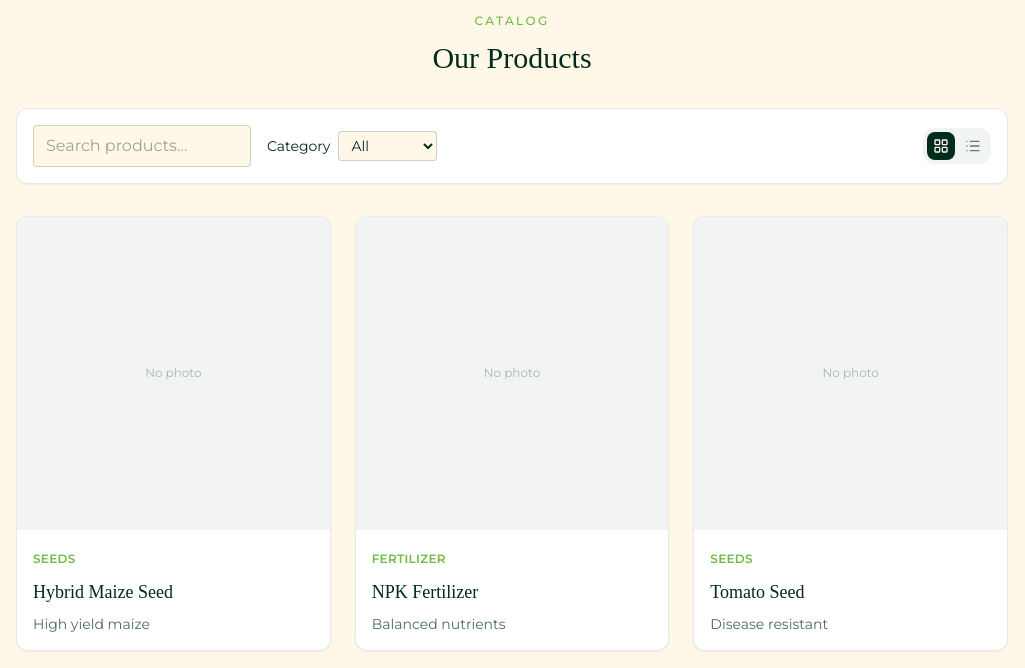
Scenario: ProductGrid › filters by category
Select "Fertilizer" in the dropdown labelled "Category": (388, 146) [338, 131, 437, 161]
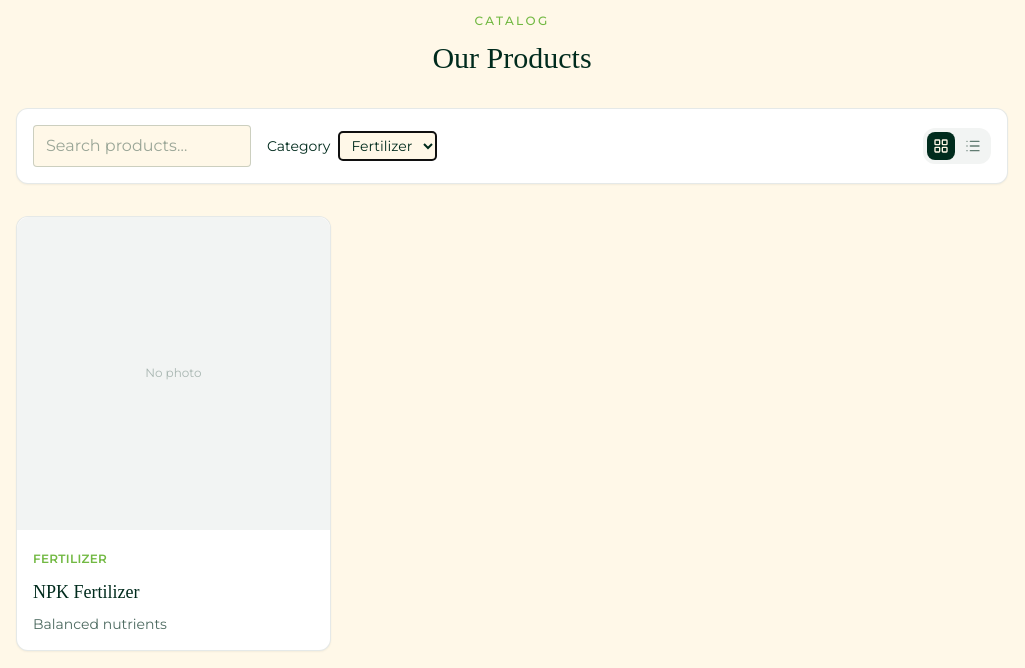
Expected: the heading "NPK Fertilizer" is shown, [33, 582, 140, 602]
Result: the link "Hybrid Maize Seed" is gone
